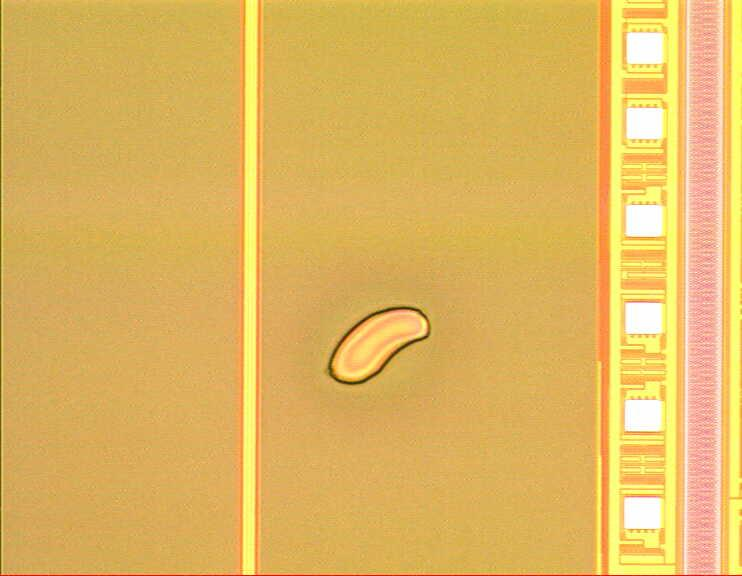PIQ PARTICLE: (323, 303, 440, 391)
